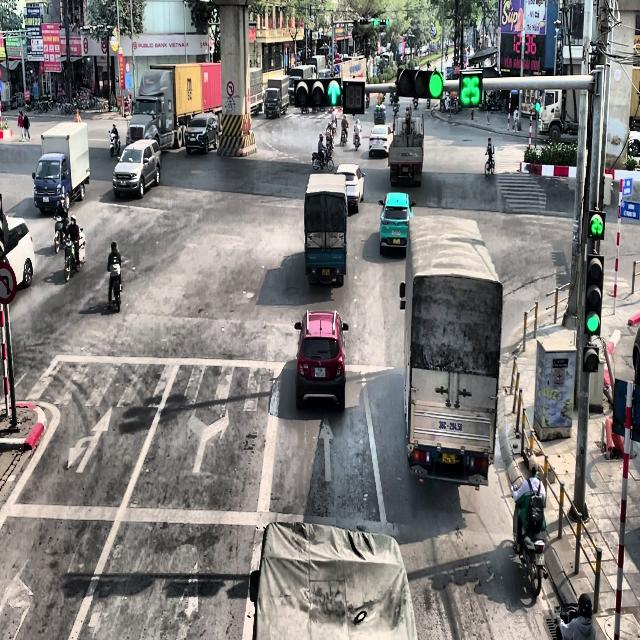lisence_plate: (436, 419, 466, 433), (437, 450, 460, 466), (313, 365, 326, 379), (319, 266, 332, 278), (399, 150, 414, 159), (392, 236, 401, 245), (401, 166, 410, 173)
